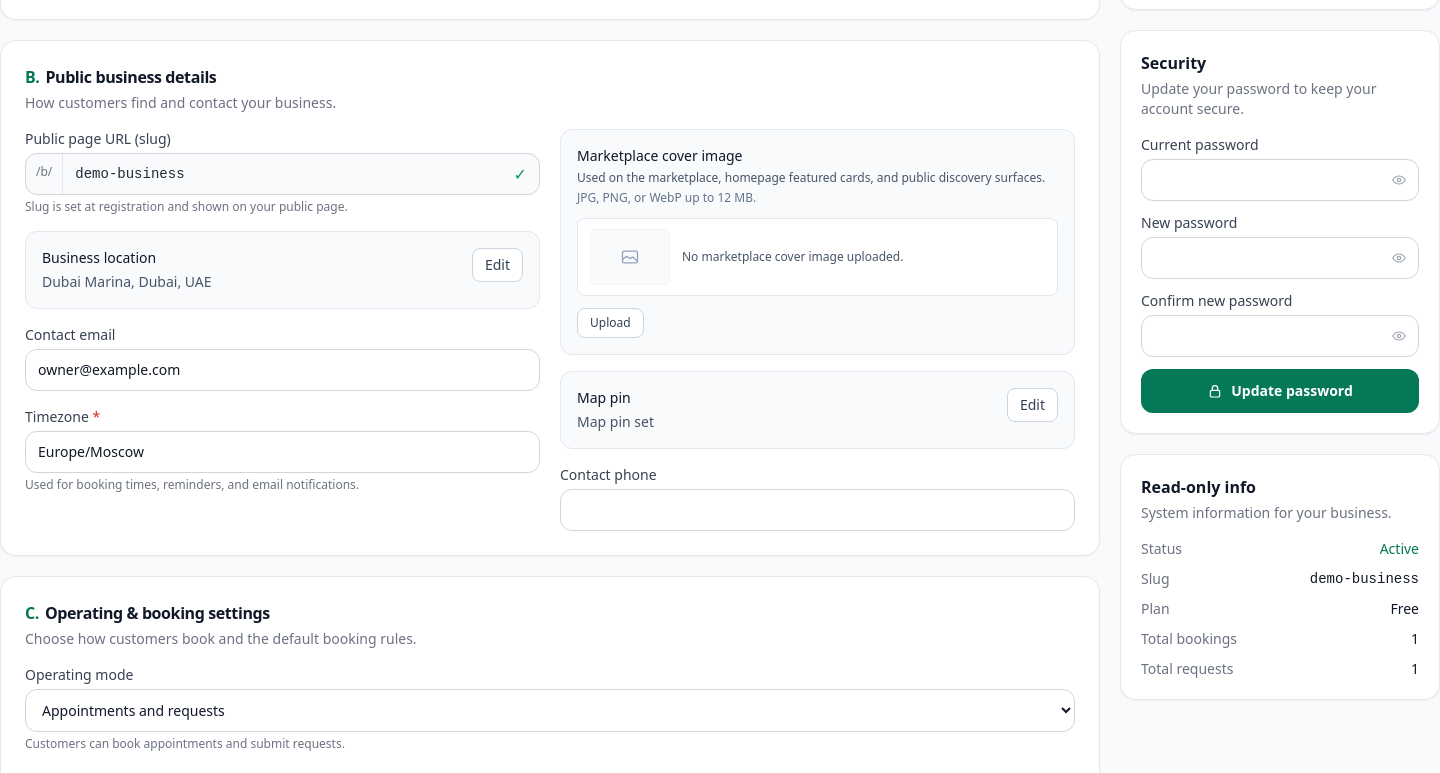
Test case: admin business map pin settings › opens latitude and longitude fields when Edit is clicked
(page scrolled)
Click the button with test id "admin-business-map-pin-edit": (1032, 405) 1007,388 -> 1058,422
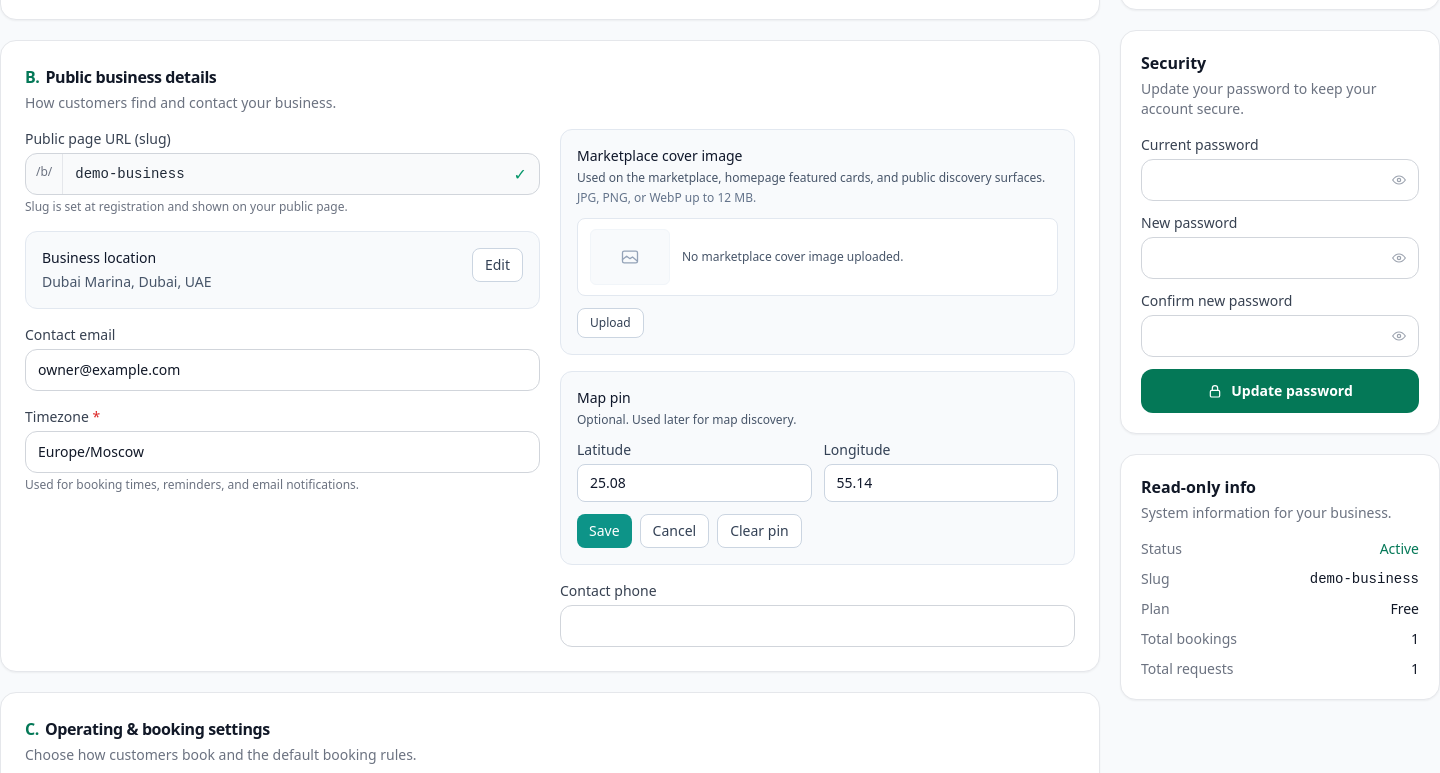
Check: the element with test id "admin-business-map-pin-form" is shown, box 577,440 -> 1058,502
Check: the field labelled "Latitude" holds "25.08", box 577,464 -> 812,502
Check: the field labelled "Longitude" holds "55.14", box 824,464 -> 1058,502
